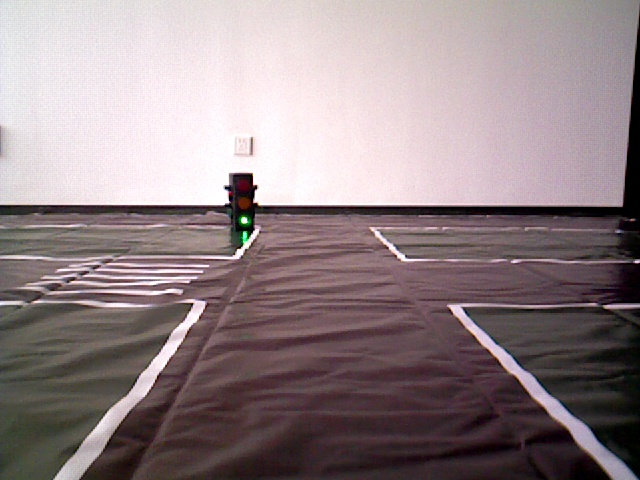green: (229, 176, 257, 228)
